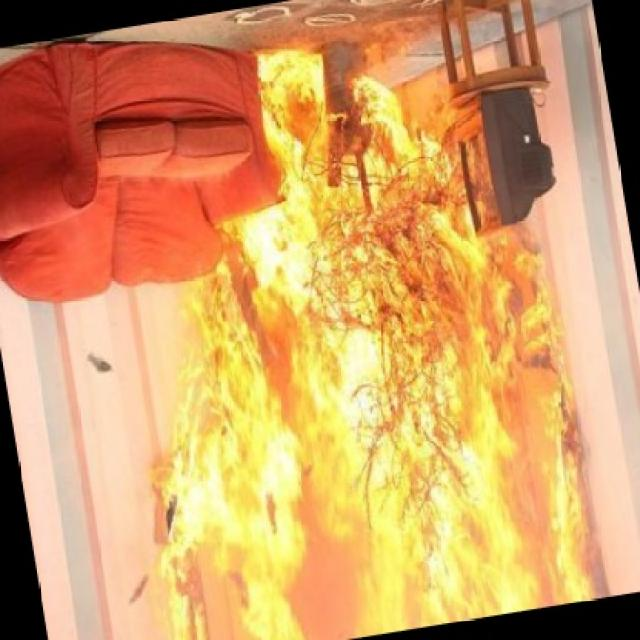fire: (133, 254, 592, 640)
